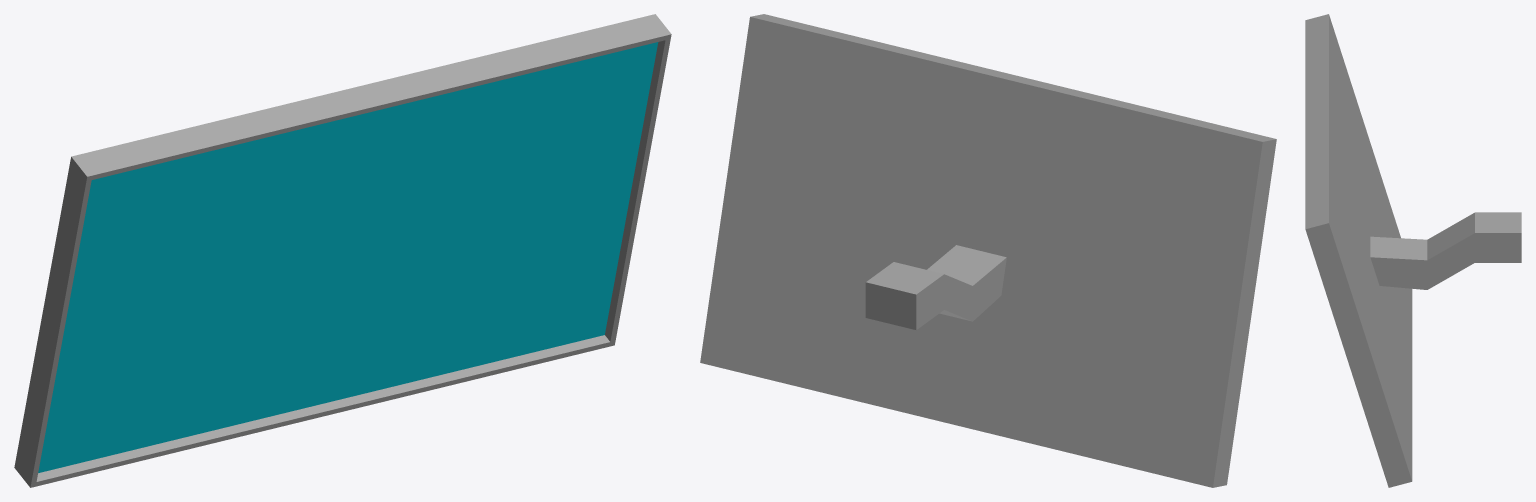
3 renders of one model, left to right at view 1: azimuth 30°, elevation 25°; view 2: azimuth 150°, elevation 25°; view 3: azimuth 270°, elevation 25°, orthographic. The views are drawn at different scales.
Visible parts, largest first — view 1: tv; view 2: tv; view 3: tv.
Part boxes in pixels (x1,y1,x2,y2): tv: (14, 14, 671, 487); tv: (700, 14, 1276, 487); tv: (1305, 14, 1521, 487).
Size of the model in its own units: 2.15 by 1.27 by 0.939.
